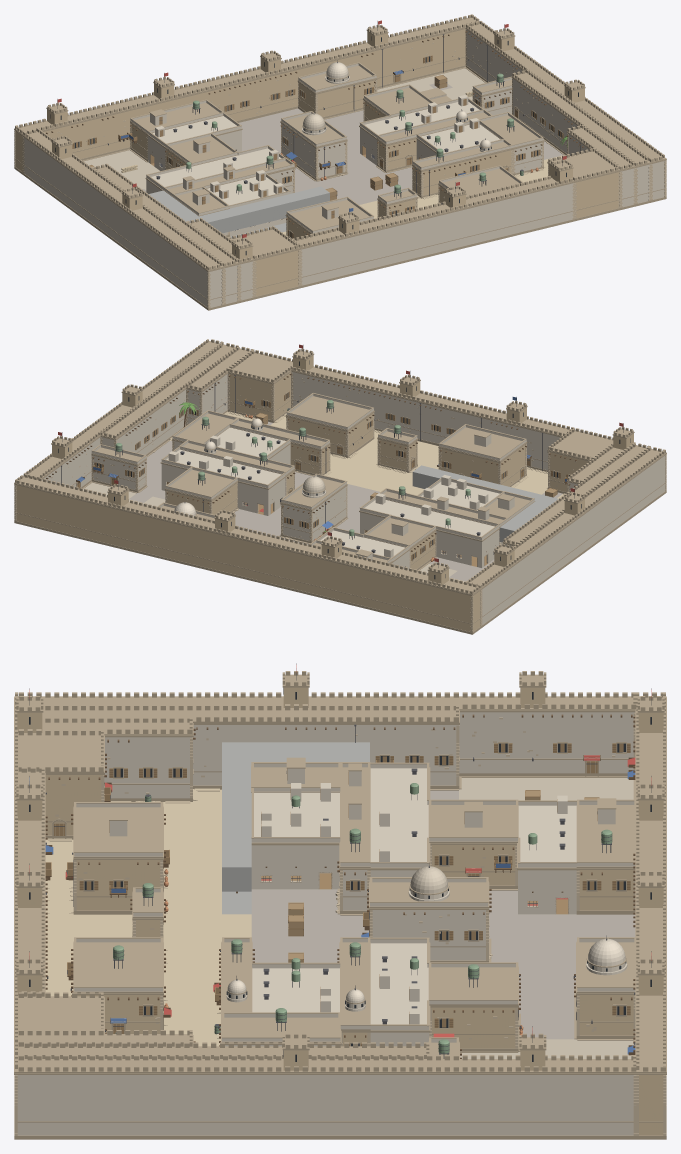
The model's file is dunehold_small.glb.
3 renders of one model, top to bottom at view 1: azimuth 30°, elevation 25°; view 2: azimuth 150°, elevation 25°; view 3: azimuth 270°, elevation 25°, orthographic. The views are drawn at different scales.
Visible parts, largest first — view 1: trim, plaster, sandstone, paving, stone, concrete, tiles, wood, iron, darkwood, barrel, sand (+2 smaller); view 2: trim, plaster, sandstone, sand, paving, stone, concrete, wood, iron, darkwood, tiles, barrel (+1 smaller); view 3: trim, plaster, sandstone, sand, paving, concrete, tiles, wood, stone, darkwood, barrel, iron (+2 smaller).
Part boxes in pixels (x1,y1,x2,y2): trim: (14, 14, 666, 310); plaster: (24, 30, 665, 307); sandstone: (15, 29, 619, 296); paving: (142, 83, 563, 204); stone: (14, 29, 666, 308); concrete: (148, 186, 329, 238); tiles: (84, 68, 484, 189); wood: (72, 55, 567, 238); iron: (57, 21, 580, 243); darkwood: (46, 31, 583, 237); barrel: (186, 73, 523, 193); sand: (283, 154, 566, 235); trim: (14, 339, 666, 634); plaster: (42, 371, 665, 624); sandstone: (15, 355, 633, 631); sand: (169, 411, 565, 498); paving: (129, 421, 562, 581); stone: (14, 372, 666, 632); concrete: (412, 465, 558, 542); wood: (77, 391, 570, 583); iron: (61, 345, 623, 567); darkwood: (46, 374, 576, 566); tiles: (83, 476, 464, 582); barrel: (115, 400, 470, 535); trim: (14, 671, 666, 1139); plaster: (15, 712, 636, 1135); sandstone: (17, 687, 665, 1135); sand: (45, 788, 251, 1046); paving: (251, 790, 635, 1039); concrete: (222, 742, 369, 914); tiles: (410, 778, 633, 1058); wood: (45, 743, 630, 1046); stone: (14, 713, 666, 1135); darkwood: (45, 714, 635, 1058); barrel: (113, 783, 612, 1053); iron: (29, 663, 651, 1058).
Bounding box in the file's own units: 120 × 16 × 88.28.
